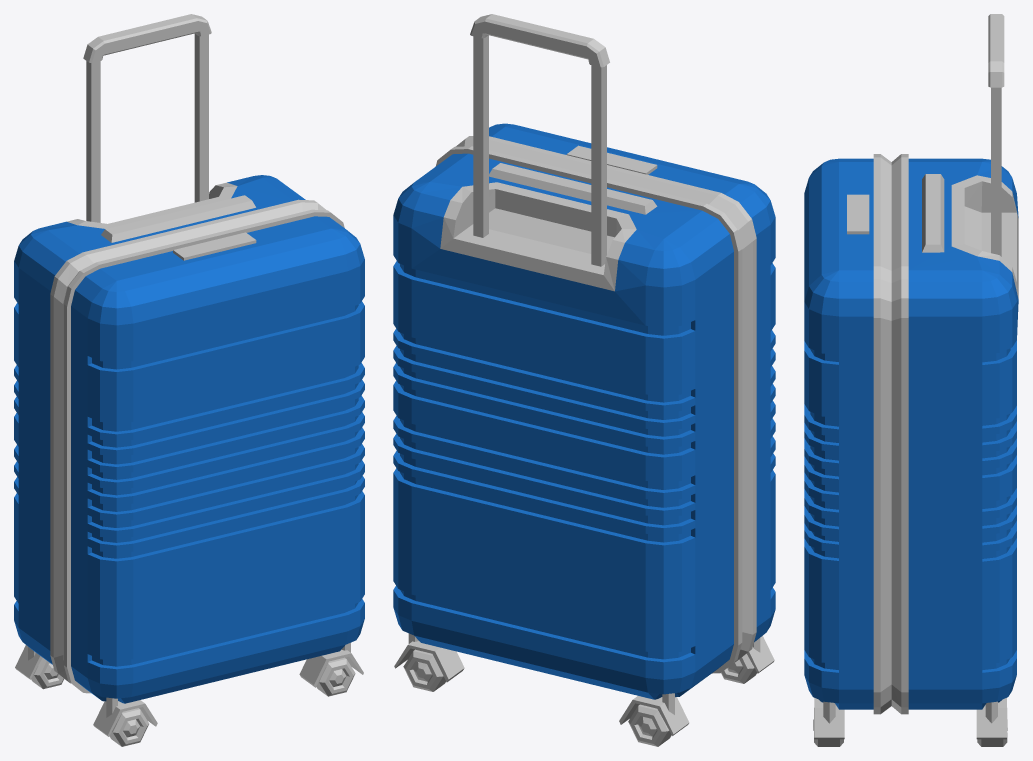
The model's file is SM_bag_4.fbx.
3 renders of one model, left to right at view 1: azimuth 30°, elevation 25°; view 2: azimuth 150°, elevation 25°; view 3: azimuth 270°, elevation 25°, orthographic. The views are drawn at different scales.
Parts seen in each view (by area): view 1: Cube_23; view 2: Cube_23; view 3: Cube_23.
Boxes of the visible parts, x1,y1,x2,y2 form: Cube_23: (14, 14, 364, 746); Cube_23: (393, 14, 775, 746); Cube_23: (804, 14, 1018, 746).
Bounding box in the file's own units: 388 × 833 × 248.
